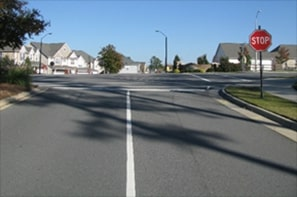StopSign: (248, 29, 273, 52)
